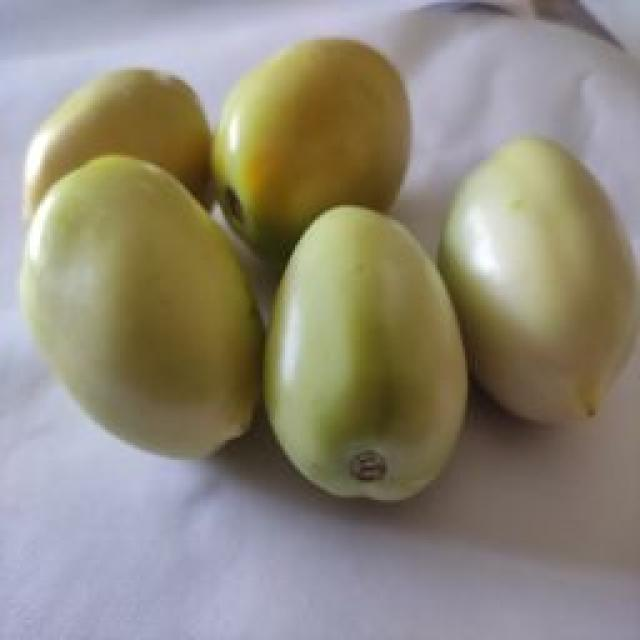tomato: (21, 153, 268, 459), (267, 202, 469, 504), (445, 140, 636, 432), (214, 36, 411, 239), (20, 64, 216, 244)
